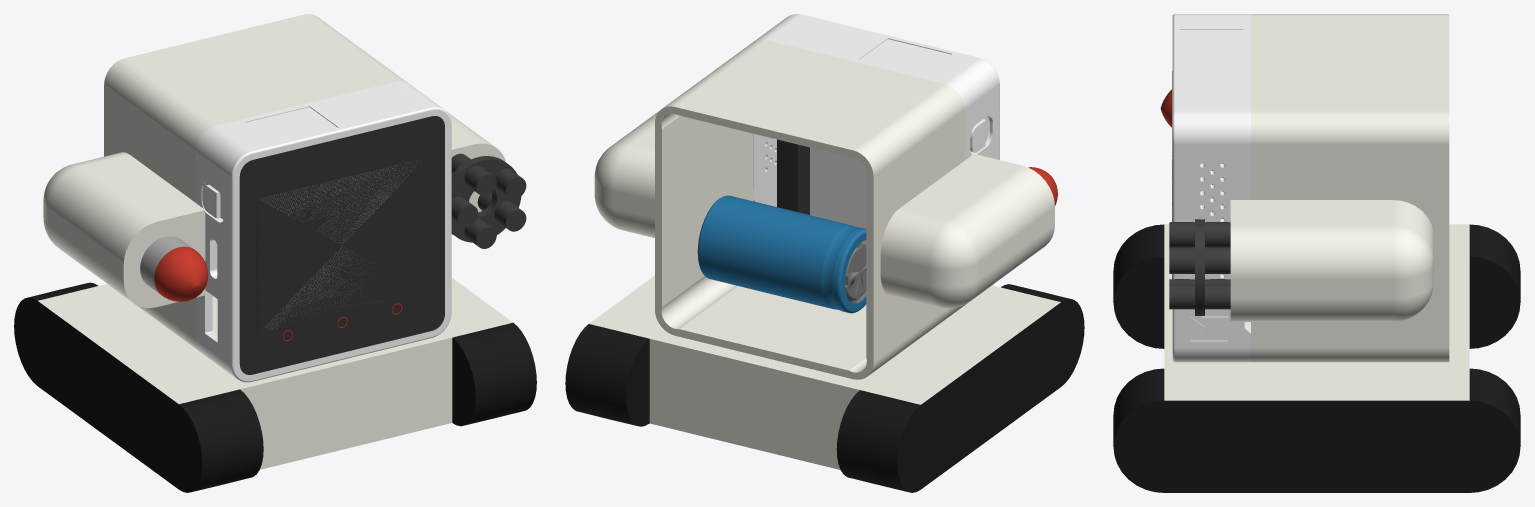
File: Custack-chan.fbx
The picture shows the model from 3 angles, left to right: view 1: azimuth 30°, elevation 25°; view 2: azimuth 150°, elevation 25°; view 3: azimuth 270°, elevation 25°; orthographic projection. The views are drawn at different scales.
Parts seen in each view (by area): view 1: Body1 (×3), 構想形状, body, arm-base (×2), gatling-weapon, missile-weapon, Body2; view 2: 構想形状, body, arm-base (×2), Body1 (×3), Body2; view 3: 構想形状, body, arm-base, Body1, gatling-weapon.
Part boxes in pixels (<box>): Body1 (×3): <box>196,81,451,382</box>; 構想形状: <box>14,278,536,492</box>; body: <box>104,14,408,352</box>; arm-base (×2): <box>43,112,505,308</box>; gatling-weapon: <box>451,153,526,248</box>; missile-weapon: <box>140,236,208,301</box>; Body2: <box>257,162,415,329</box>; 構想形状: <box>565,275,1084,492</box>; body: <box>655,39,964,379</box>; arm-base (×2): <box>594,111,1054,308</box>; Body1 (×3): <box>753,14,999,309</box>; Body2: <box>697,195,866,313</box>; 構想形状: <box>1113,224,1520,492</box>; body: <box>1251,14,1449,362</box>; arm-base: <box>1230,200,1433,321</box>; Body1: <box>1172,14,1250,362</box>; gatling-weapon: <box>1169,219,1230,315</box>.
Bounding box in the file's own units: 94 × 74 × 80.
